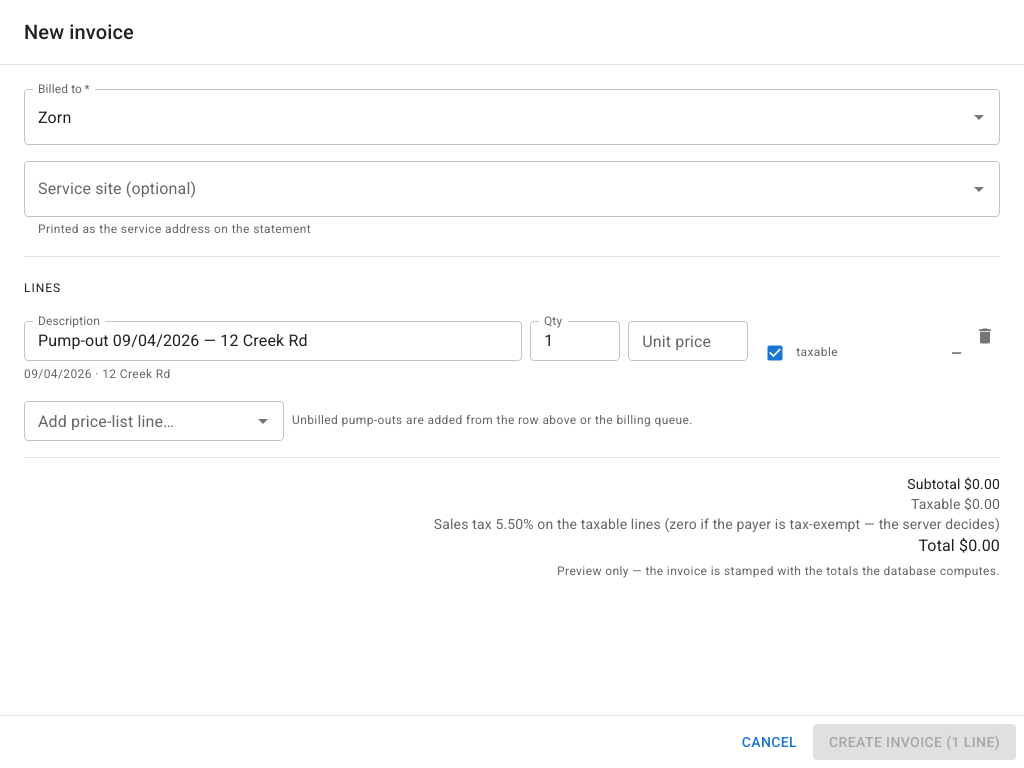
Test: T-BIL-20: the invoice desk dialog › a refusal stays the server’s own sentence
The image size is (1024, 768).
Check: the field showing "Pump-out" is shown, box [24,321,522,361]
Type "150" into the field named "line unit price 1".
click(688, 341); type("150")  # box [628,321,748,361]
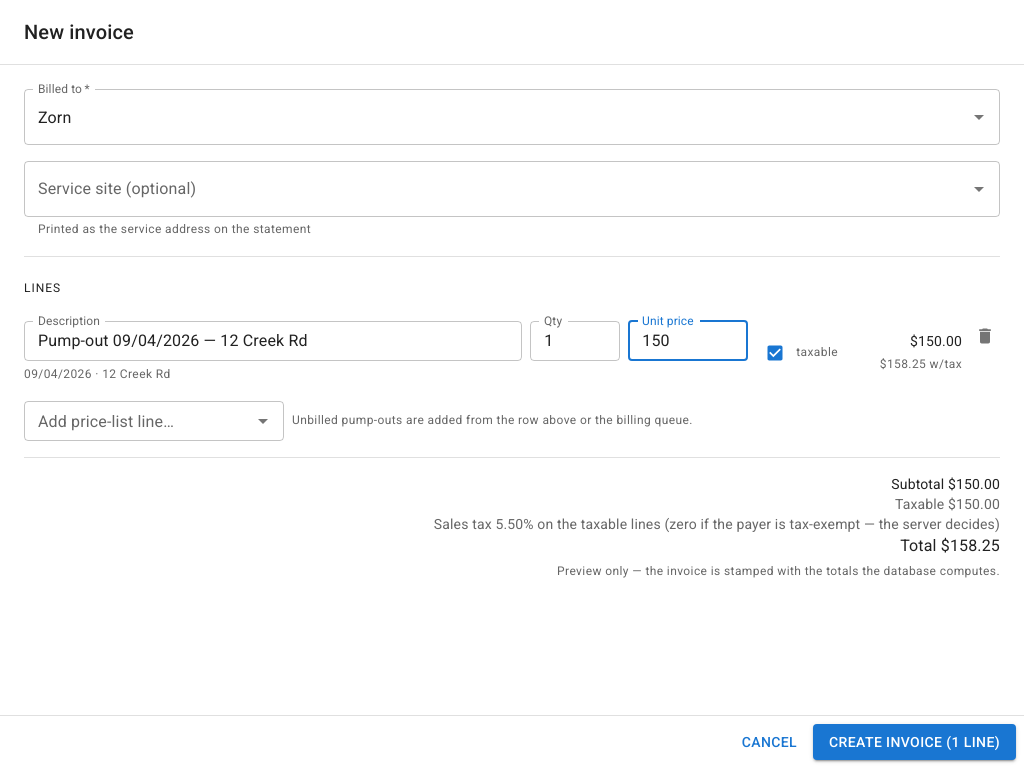
Click the button "Create invoice (1 line)".
click(915, 742)  # box [813,724,1016,760]
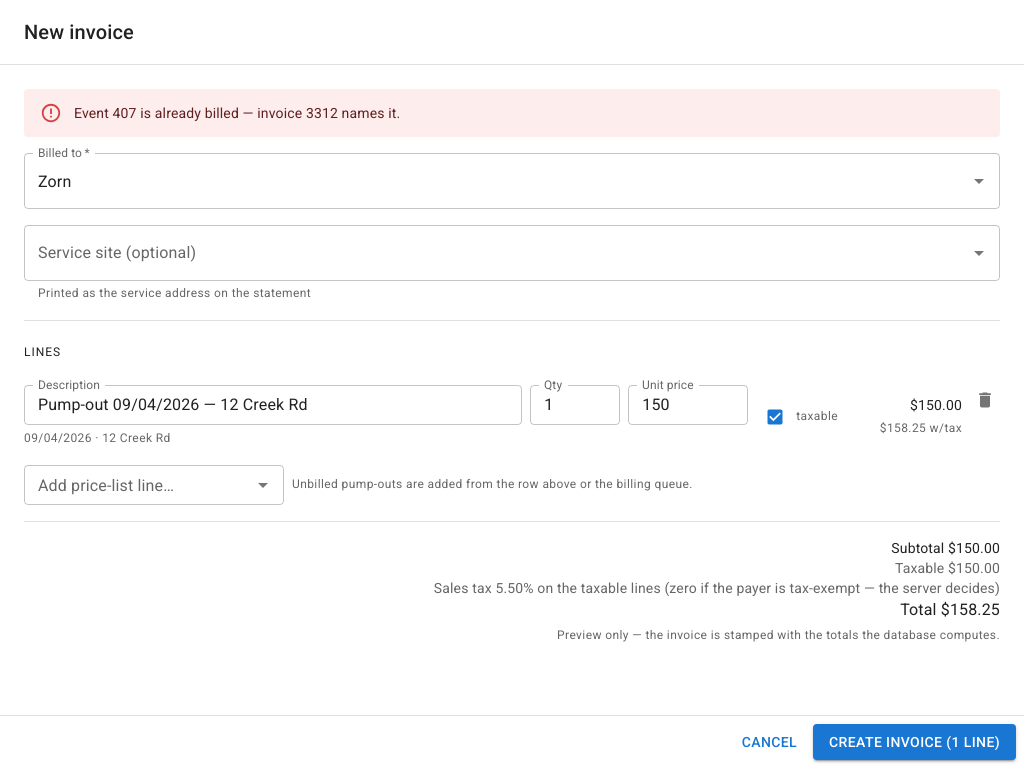
Check: the message reads "Event 407 is already billed — invoice 3312 names it.", box [74,105,400,121]
